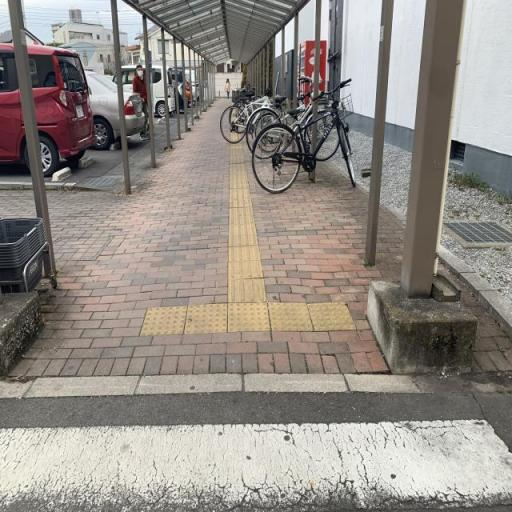dot: (307, 301, 356, 332), (140, 305, 187, 336), (268, 302, 314, 331), (227, 302, 270, 332), (184, 303, 228, 332)
line: (227, 278, 267, 302), (228, 260, 264, 279), (229, 246, 261, 261)
